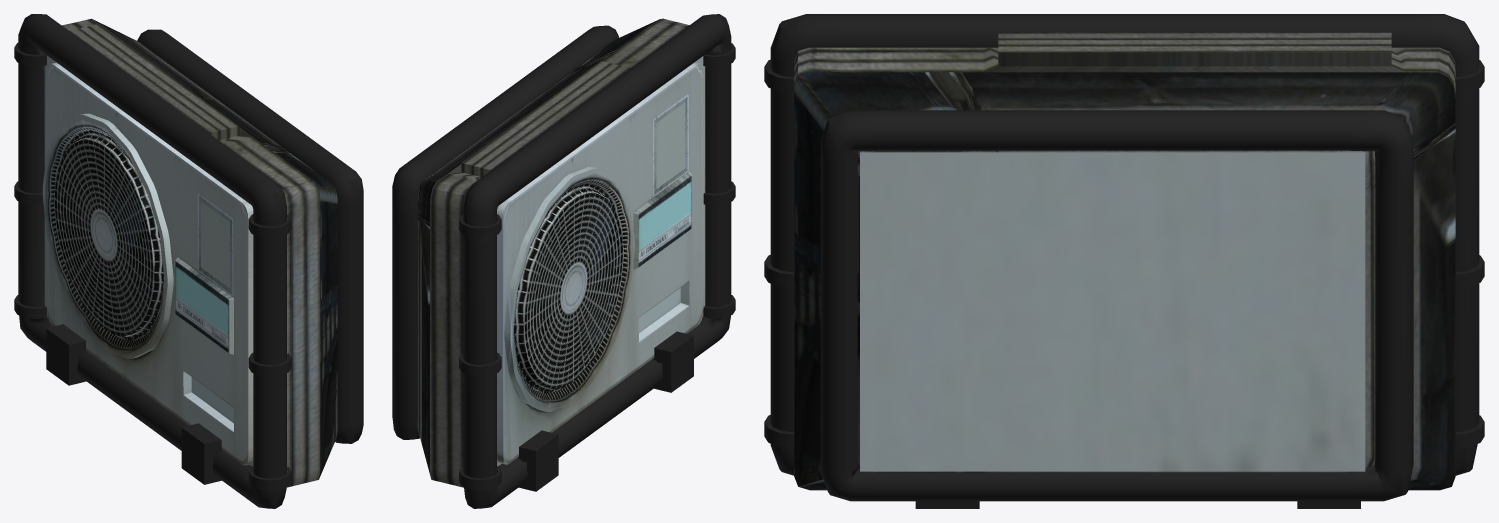
Rendered from Fan.fbx.
3 renders of one model, left to right at view 1: azimuth 30°, elevation 25°; view 2: azimuth 150°, elevation 25°; view 3: azimuth 270°, elevation 25°, orthographic. The views are drawn at different scales.
Parts seen in each view (by area): view 1: Fan; view 2: Fan; view 3: Fan.
Boxes of the visible parts, bbox=[...] form: Fan: bbox=[14, 14, 363, 508]; Fan: bbox=[392, 14, 735, 508]; Fan: bbox=[764, 14, 1484, 508].
Bounding box in the file's own units: 44.43 × 106 × 150.
2 materials, 1 textured.
